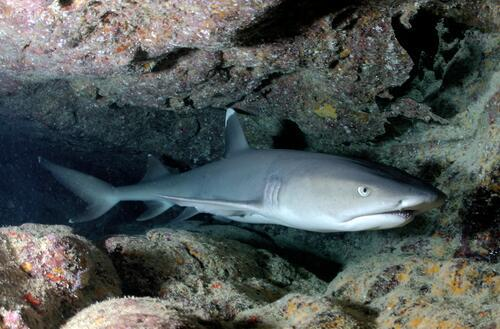shark: (39, 108, 448, 234)
